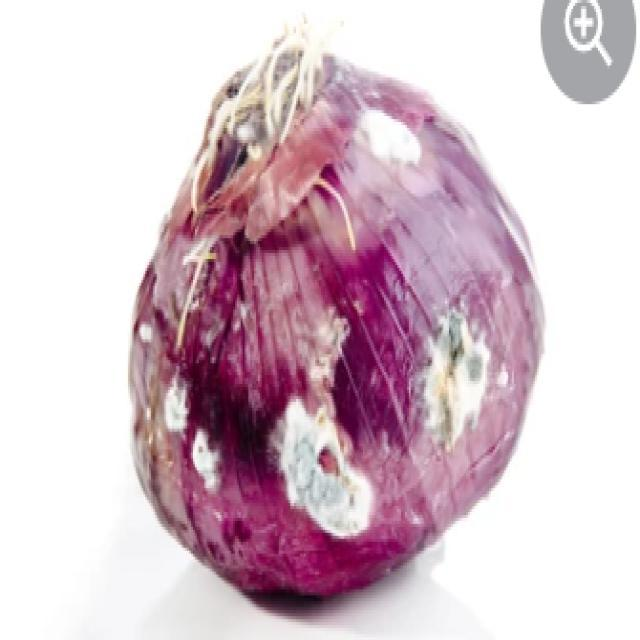rotten: (237, 363, 386, 548), (414, 318, 498, 428)
